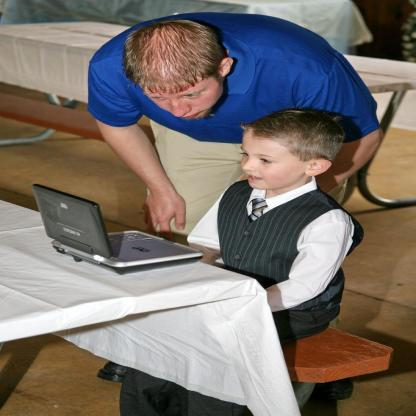board: (49, 183, 186, 274)
